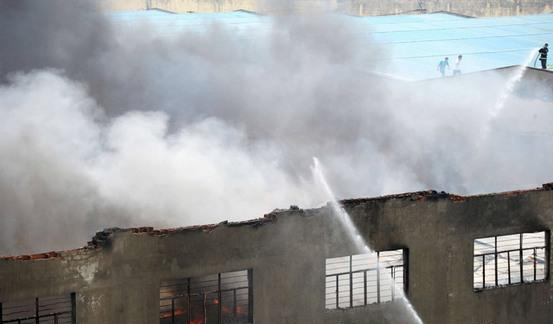喷灌水雾: (299, 156, 421, 324), (464, 47, 538, 152)
